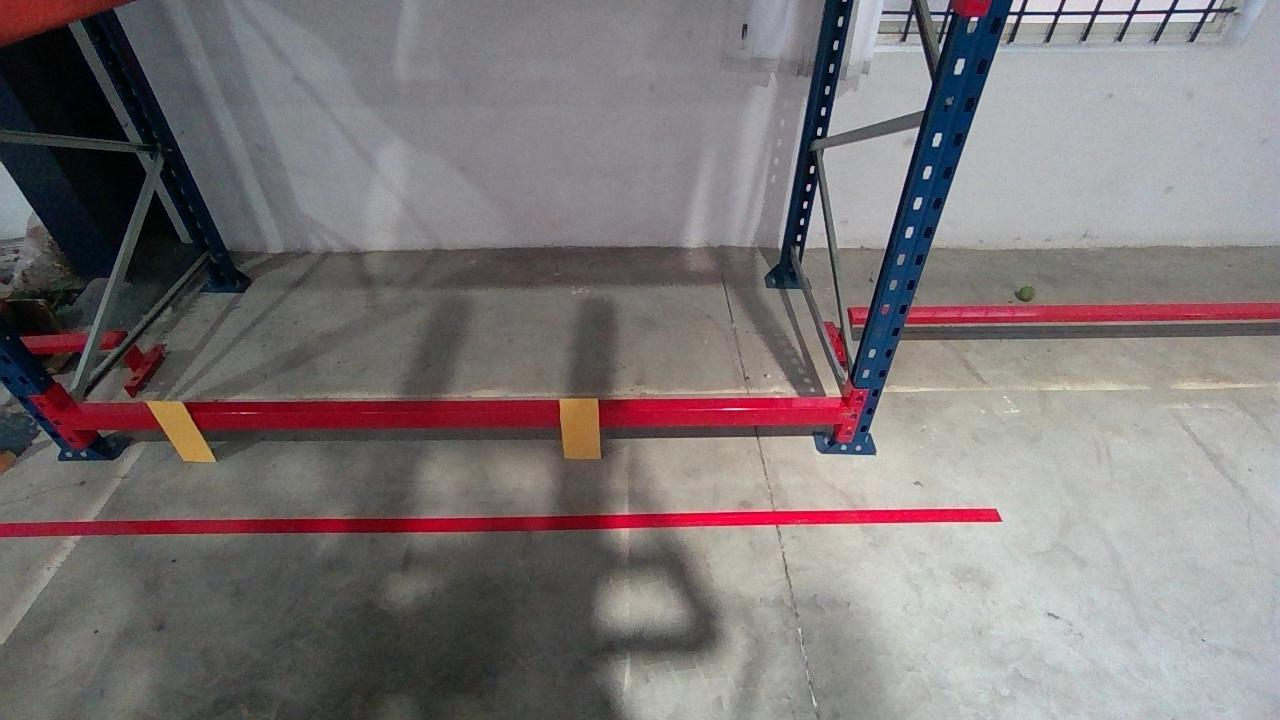h_rack: (47, 406, 847, 430)
orange_strip: (141, 402, 220, 461), (556, 397, 601, 457)
red_line: (0, 509, 1000, 528)
